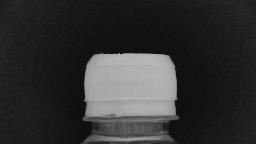Broken Cap: (80, 50, 180, 116)
